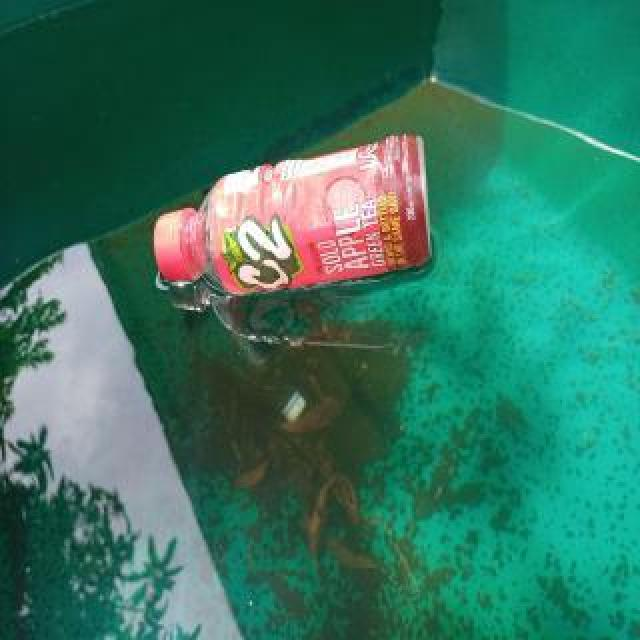bottle: (155, 131, 433, 297)
